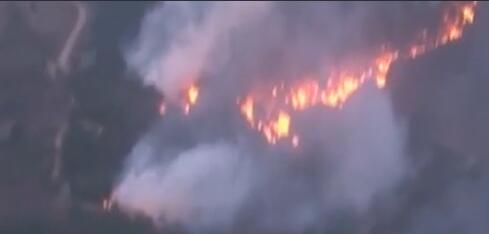fire: (242, 5, 476, 146), (156, 77, 201, 117)
yanwu: (109, 1, 452, 230)
